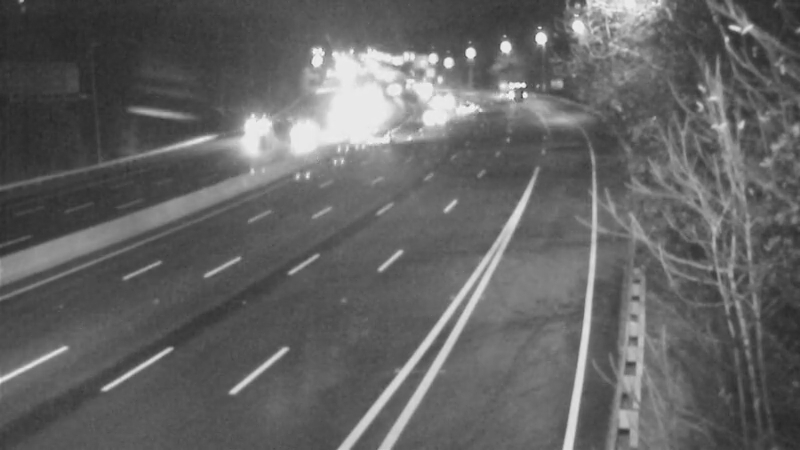vehicle: (493, 64, 543, 114), (418, 72, 468, 122), (440, 83, 490, 133), (410, 91, 460, 141), (352, 113, 402, 163), (232, 99, 282, 149), (274, 108, 324, 158)
